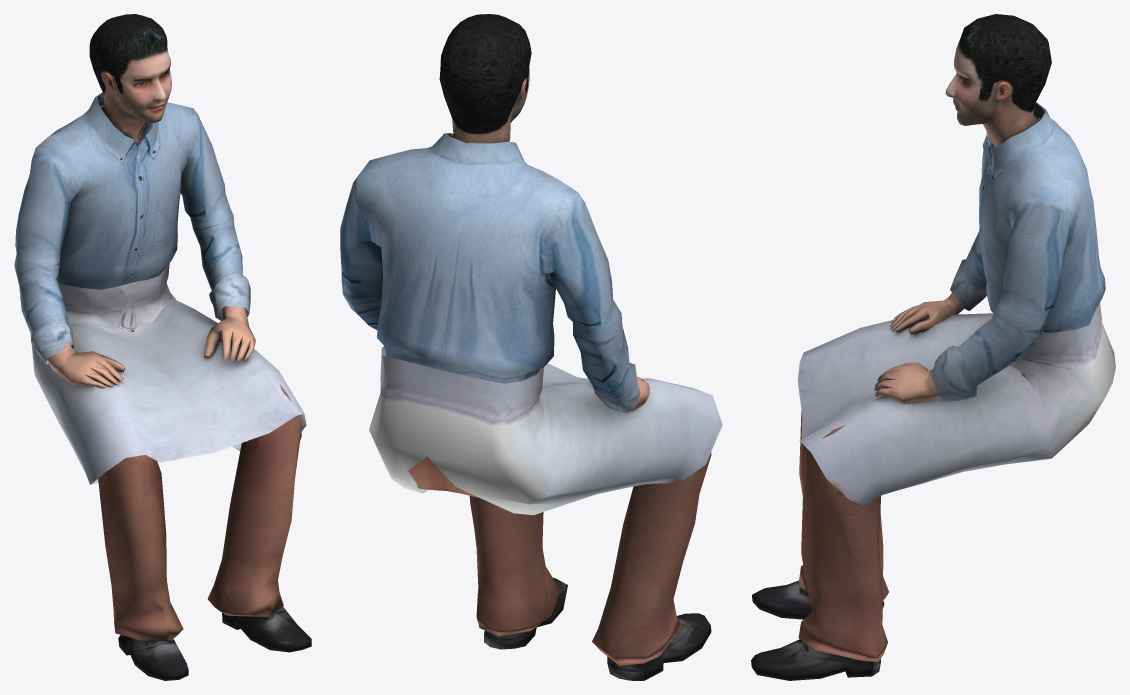
File: SWT01_04_02.fbx
The picture shows the model from 3 angles, left to right: view 1: azimuth 30°, elevation 25°; view 2: azimuth 150°, elevation 25°; view 3: azimuth 270°, elevation 25°; orthographic projection. The views are drawn at different scales.
Parts seen in each view (by area): view 1: WAIT01_04_02; view 2: WAIT01_04_02; view 3: WAIT01_04_02.
Boxes of the visible parts, x1,y1,x2,y2 form: WAIT01_04_02: (14, 14, 311, 680); WAIT01_04_02: (340, 14, 722, 680); WAIT01_04_02: (751, 14, 1115, 680).
Size of the model in its own units: 23.58 by 58.37 by 30.88.
